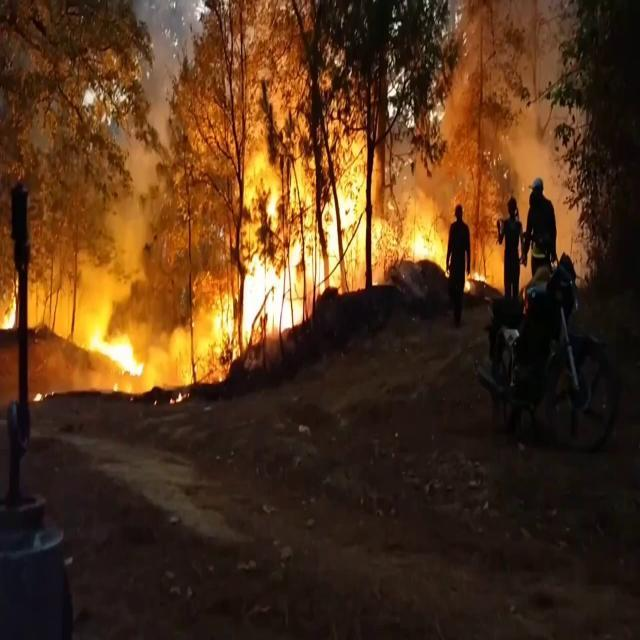Fire: (216, 132, 438, 346), (84, 304, 150, 386)
Smoke: (28, 3, 244, 294), (393, 2, 571, 226)
